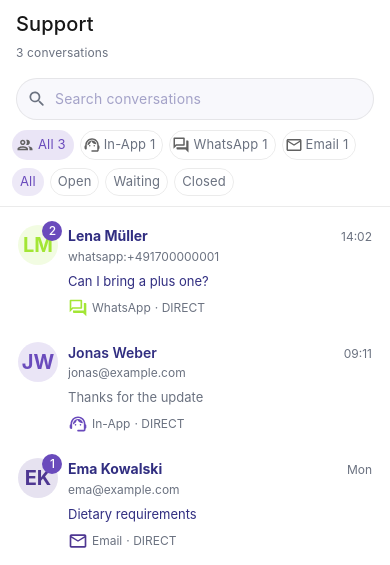
Test: CommunicationWorkspace › filters the inbox by search term
The width and height of the screenshot is (390, 565).
In the field labelled "Search conversations": (209, 99) x1=55 y1=84 x2=363 y2=114, type "lena"
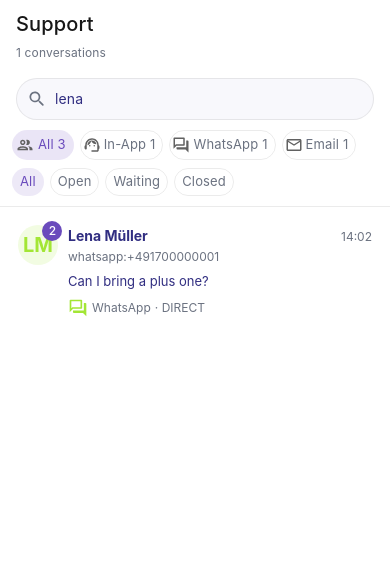
Check: the text "Lena Müller" is shown, box x1=68 y1=225 x2=148 y2=246
Check: the button "Jonas Weber" is gone
